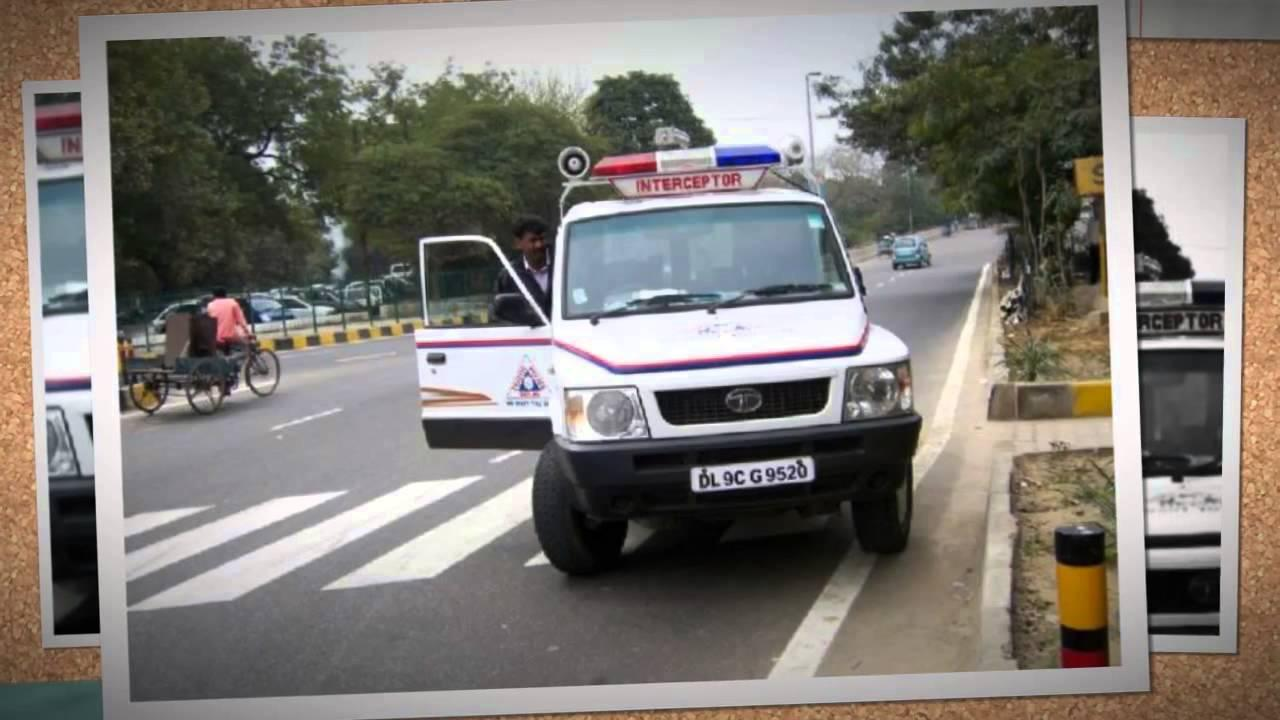Emergency-Vehicles: (433, 132, 938, 521)
